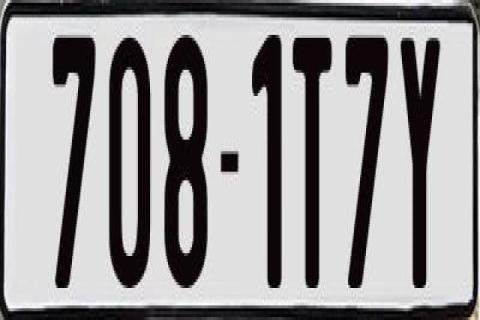0: (51, 32, 95, 288), (345, 35, 389, 291), (164, 29, 206, 291), (106, 35, 146, 294), (251, 35, 285, 299)
T: (290, 32, 328, 288)
Y: (398, 32, 444, 285)
